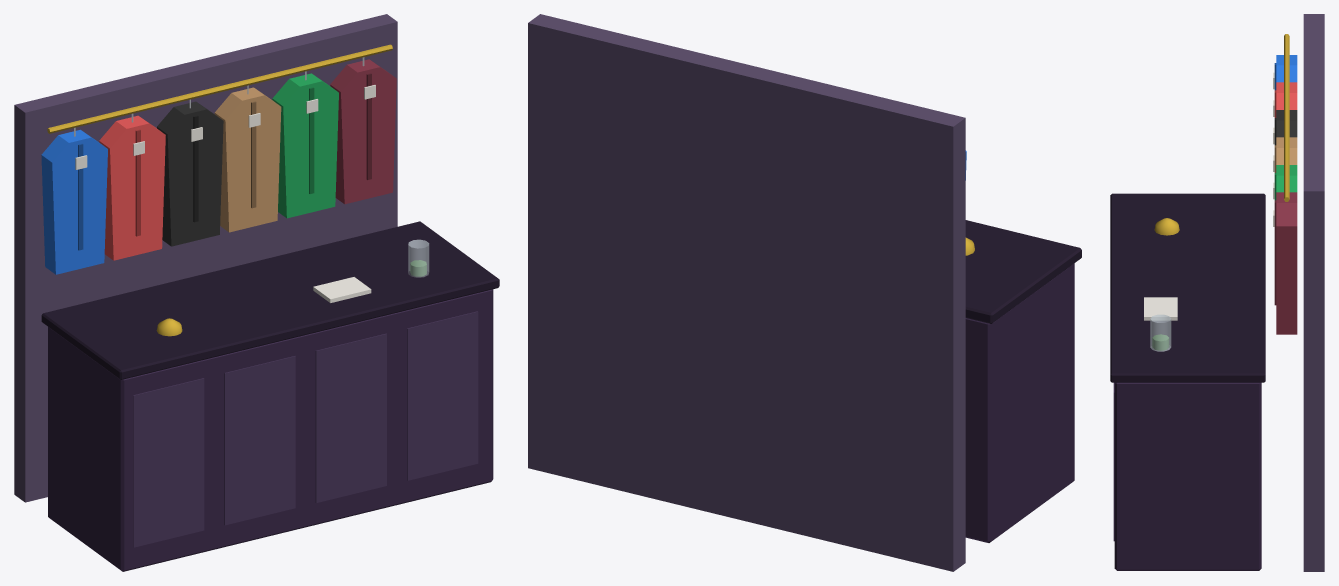
Rendered from coat_check.glb.
The picture shows the model from 3 angles, left to right: view 1: azimuth 30°, elevation 25°; view 2: azimuth 150°, elevation 25°; view 3: azimuth 270°, elevation 25°; orthographic projection. The views are drawn at different scales.
Visible parts, largest first — view 1: coat_check; view 2: coat_check; view 3: coat_check.
Part boxes in pixels (x1=…): coat_check: x1=14, y1=14, x2=499, y2=571; coat_check: x1=528, y1=14, x2=1081, y2=571; coat_check: x1=1110, y1=14, x2=1324, y2=571.
Size of the model in its own units: 2.04 by 2 by 1.02.
